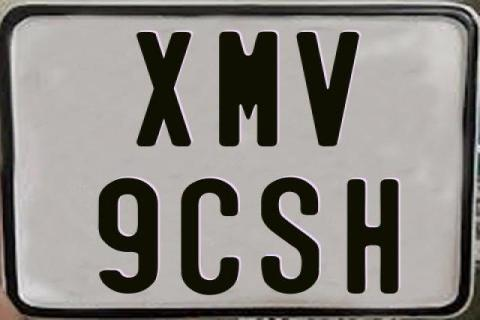0: (98, 175, 163, 293)
C: (180, 177, 241, 295)
H: (346, 179, 401, 296)
M: (218, 31, 277, 151)
S: (258, 175, 320, 293)
V: (294, 32, 358, 146)
X: (133, 32, 192, 149)
